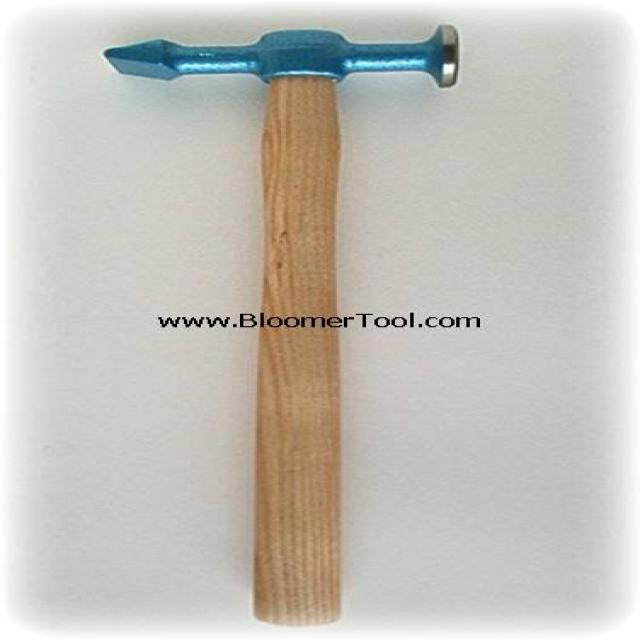hammer: (85, 0, 490, 455)
